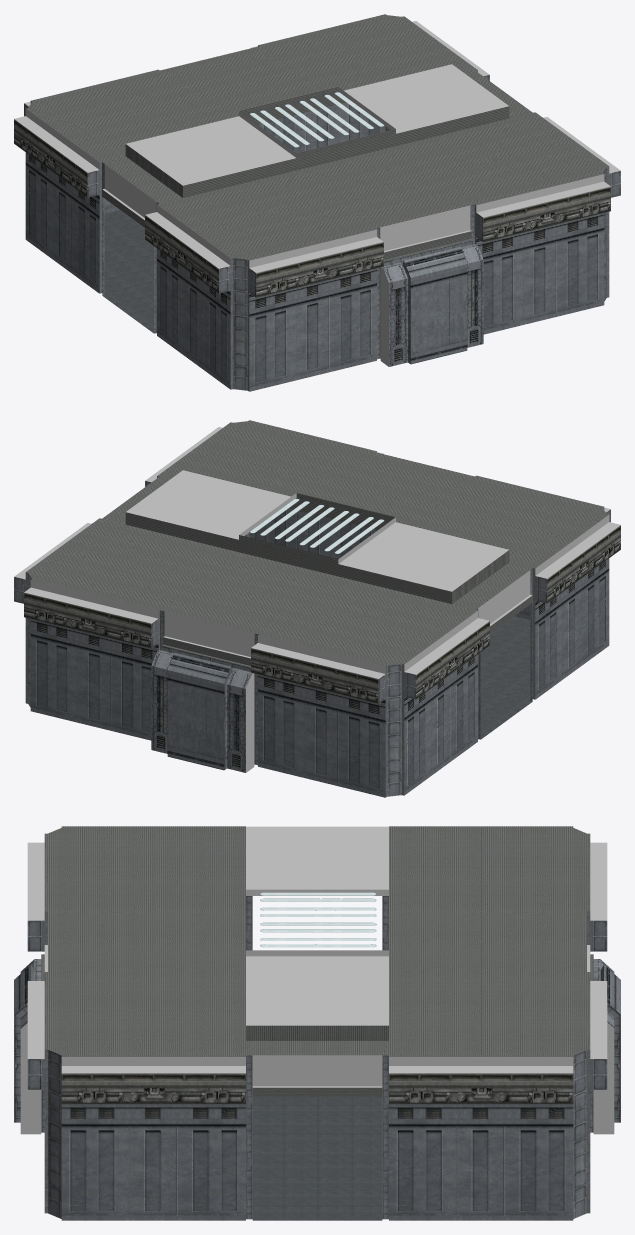
Rendered from poi_all_impl_bunker_research_facility_s01_r16_storage1_mesh.fbx.
The picture shows the model from 3 angles, top to bottom: view 1: azimuth 30°, elevation 25°; view 2: azimuth 150°, elevation 25°; view 3: azimuth 270°, elevation 25°; orthographic projection. The views are drawn at different scales.
Parts seen in each view (by area): view 1: mesh_node; view 2: mesh_node; view 3: mesh_node.
Part boxes in pixels (left/top/right/bottom): mesh_node: left=14, top=14, right=620, bottom=391; mesh_node: left=14, top=420, right=620, bottom=797; mesh_node: left=14, top=826, right=620, bottom=1220.
Size of the model in its own units: 17 by 6 by 17.8.
